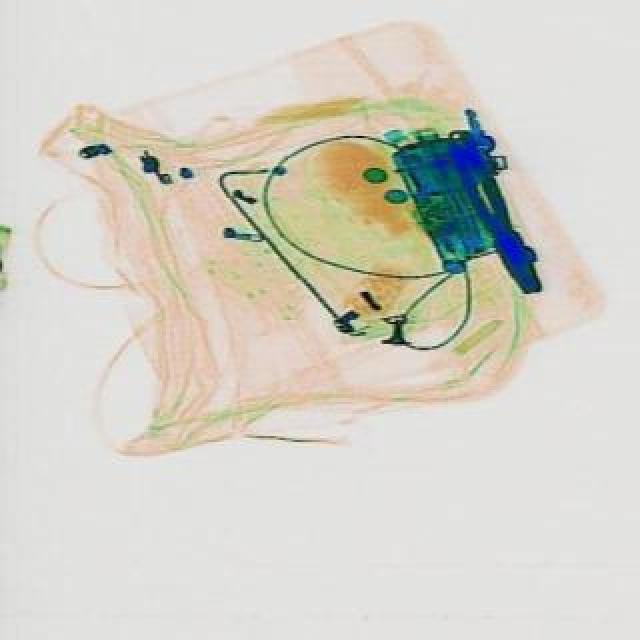wrench: (446, 142, 546, 304)
